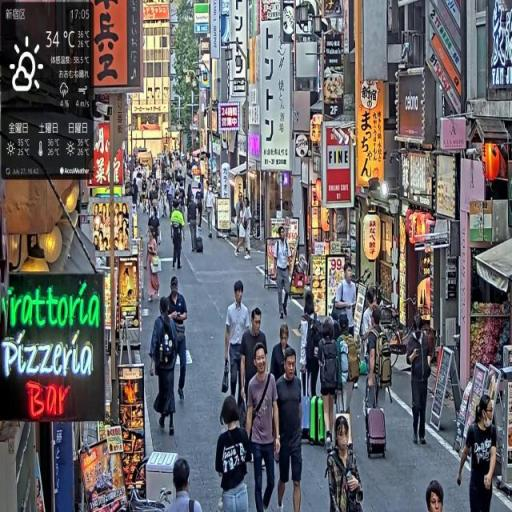person: (246, 344, 282, 511), (456, 393, 501, 512), (274, 350, 306, 512), (216, 397, 256, 512), (151, 295, 181, 436), (406, 312, 435, 448), (326, 414, 366, 512), (224, 281, 252, 412), (316, 317, 341, 448), (166, 277, 190, 404), (162, 457, 204, 512), (274, 226, 295, 323), (332, 264, 359, 337), (171, 204, 186, 271), (425, 478, 447, 512)
